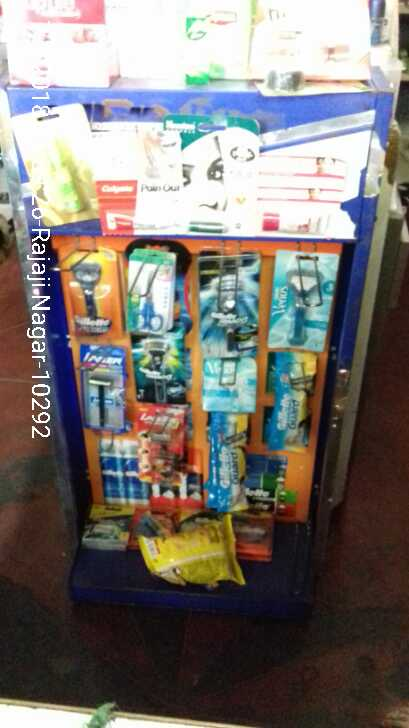beauty: (270, 252, 331, 351), (61, 252, 120, 341), (202, 253, 258, 345), (128, 330, 192, 404), (203, 419, 250, 514), (273, 354, 315, 445), (79, 349, 121, 427)
